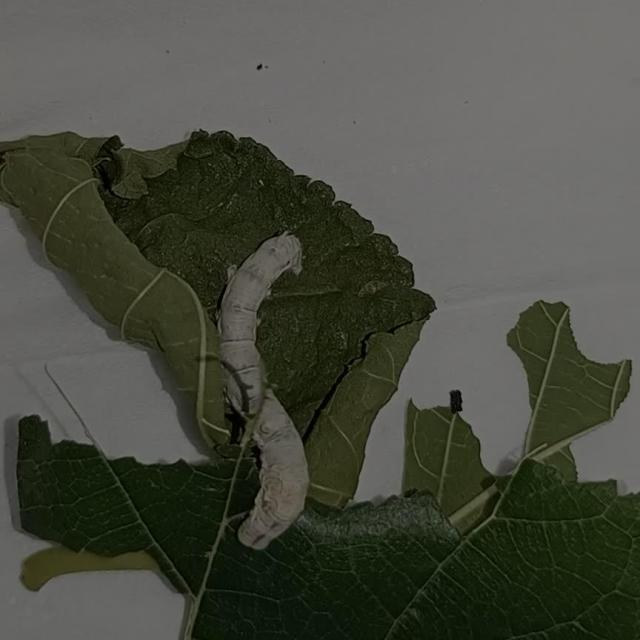Healthy: (154, 188, 368, 564)
